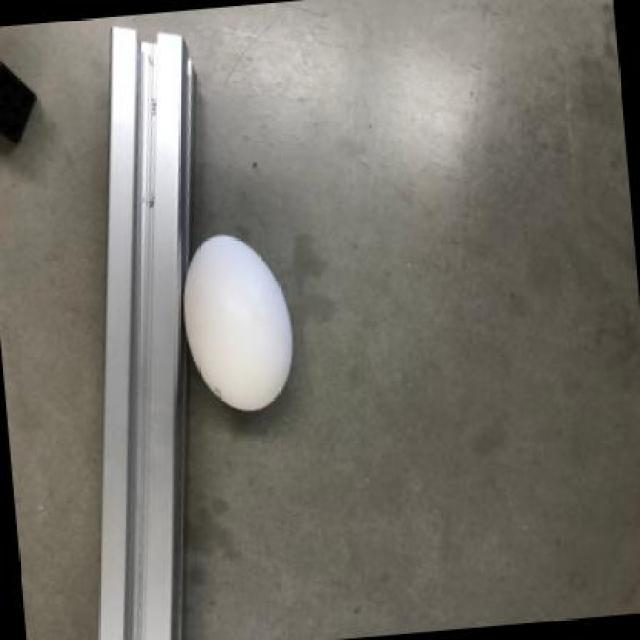egg: (180, 226, 298, 414)
